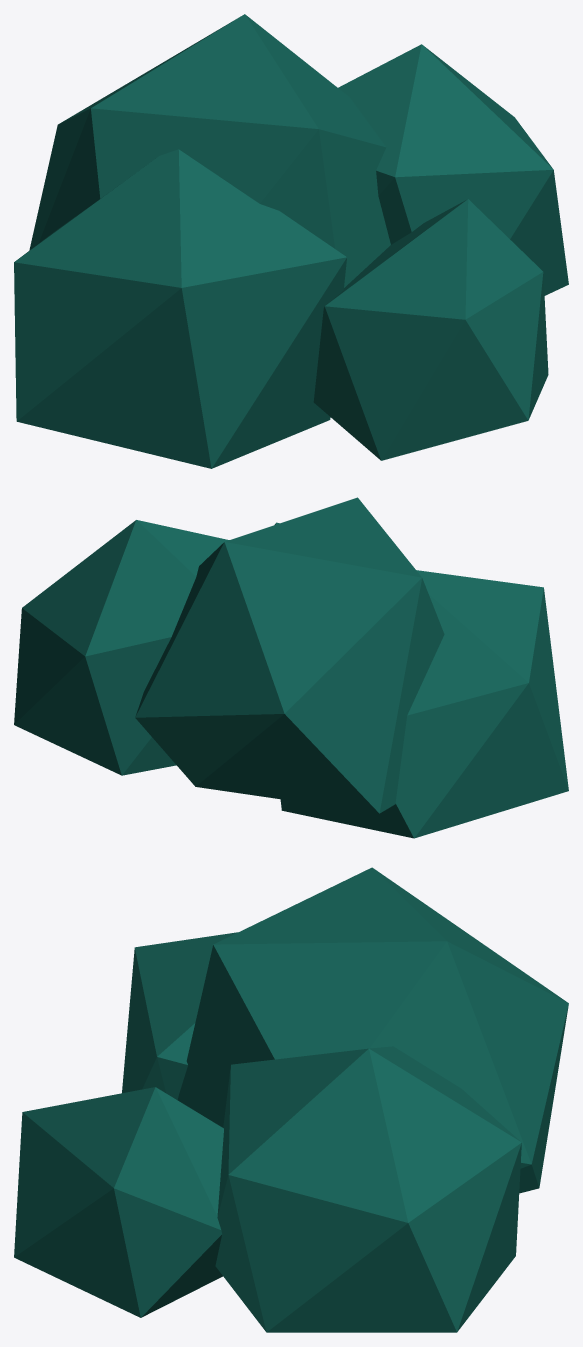
The model's file is bush2.fbx.
3 renders of one model, top to bottom at view 1: azimuth 30°, elevation 25°; view 2: azimuth 150°, elevation 25°; view 3: azimuth 270°, elevation 25°, orthographic. The views are drawn at different scales.
Parts seen in each view (by area): view 1: Cube; view 2: Cube; view 3: Cube.
Boxes of the visible parts, <box> form: Cube: <box>14,14,568,468</box>; Cube: <box>14,497,568,838</box>; Cube: <box>14,867,568,1332</box>.
Bounding box in the file's own units: 455 × 241 × 377.
